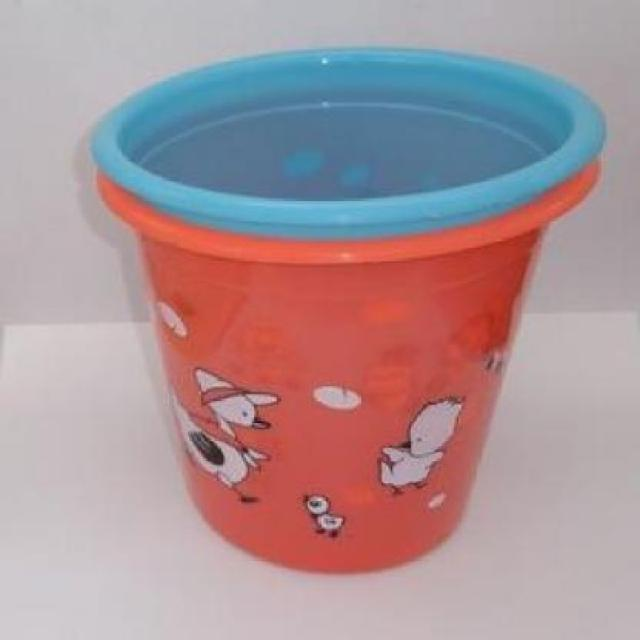dustbin: (90, 45, 612, 580)
